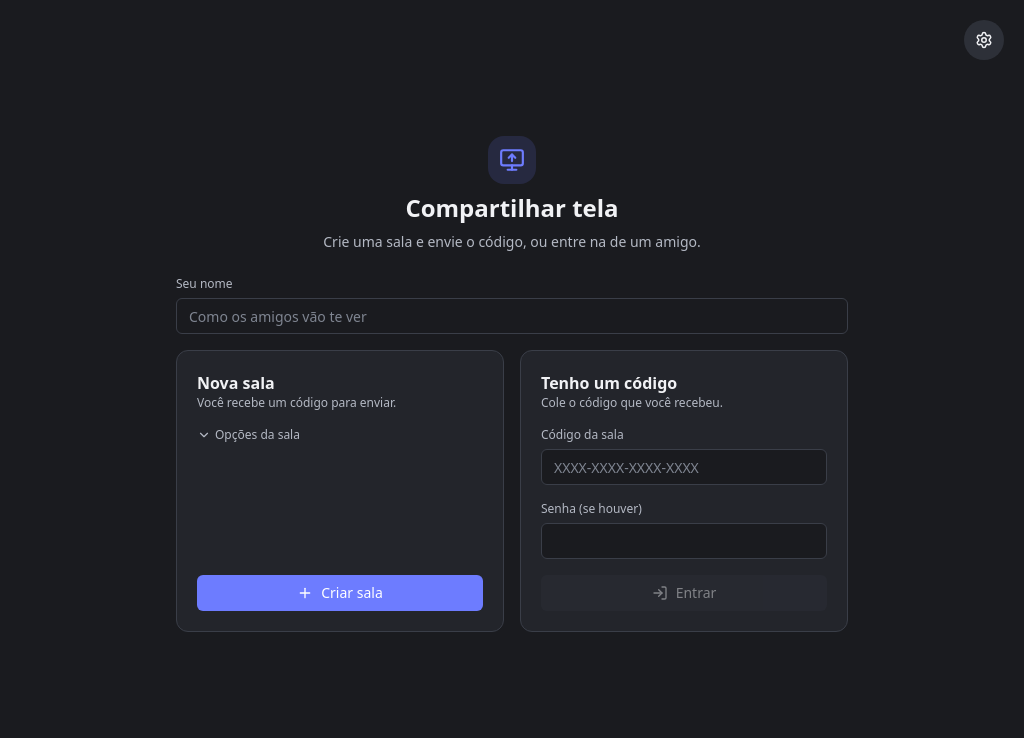
Test: servidor de mídia › salva o endereço digitado e mostra o erro do main
The width and height of the screenshot is (1024, 738).
Click the button named "Configurações".
click(984, 40)  # box [964,20,1004,60]
(page scrolled)
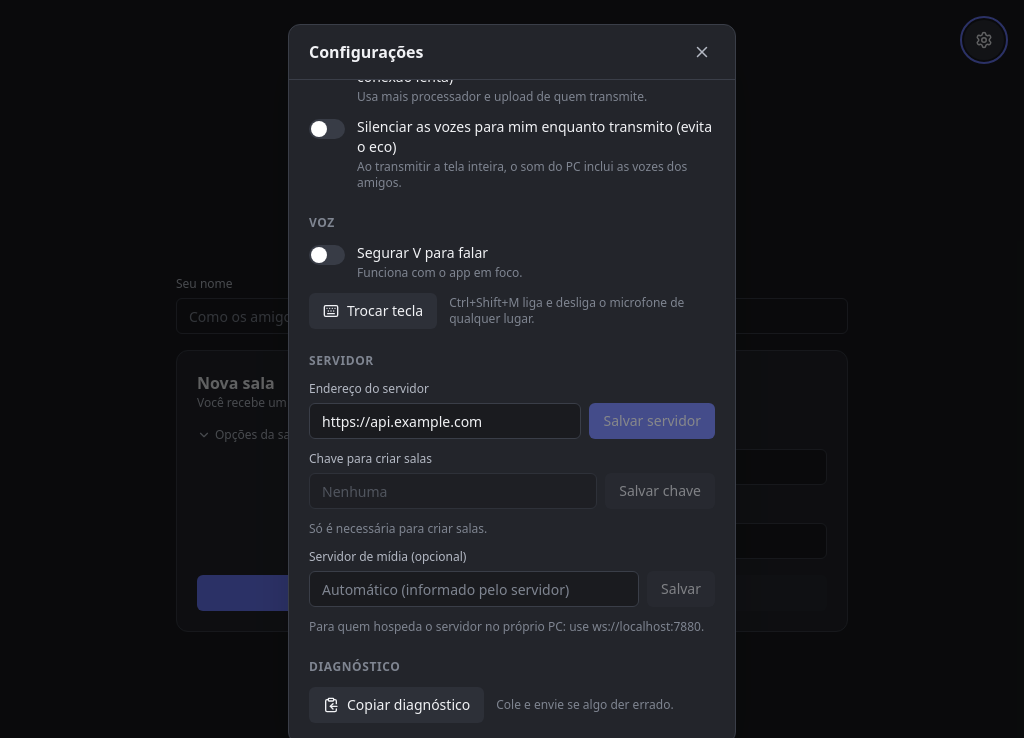
expect the field labelled "Servidor de mídia (opcional)" is empty: met
Type "ws://localhost:7880" into the field labelled "Servidor de mídia (opcional)".
click(474, 589); type("ws://localhost:7880")  # box [309,571,639,607]
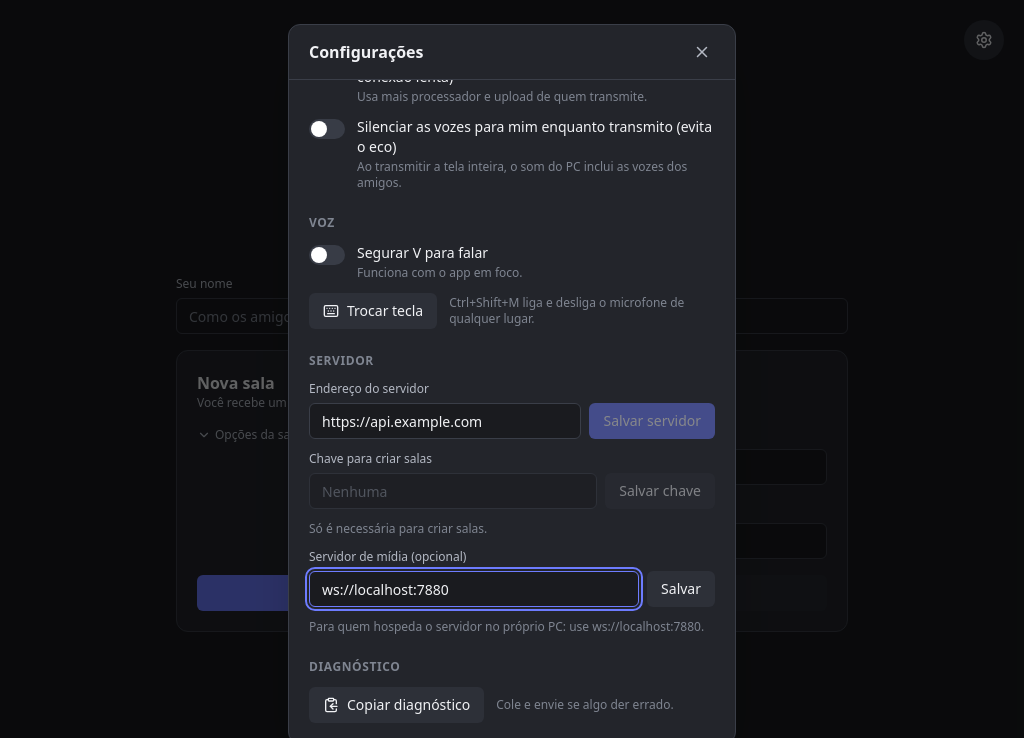
Click the button "Salvar".
click(681, 589)  # box [647,571,715,607]
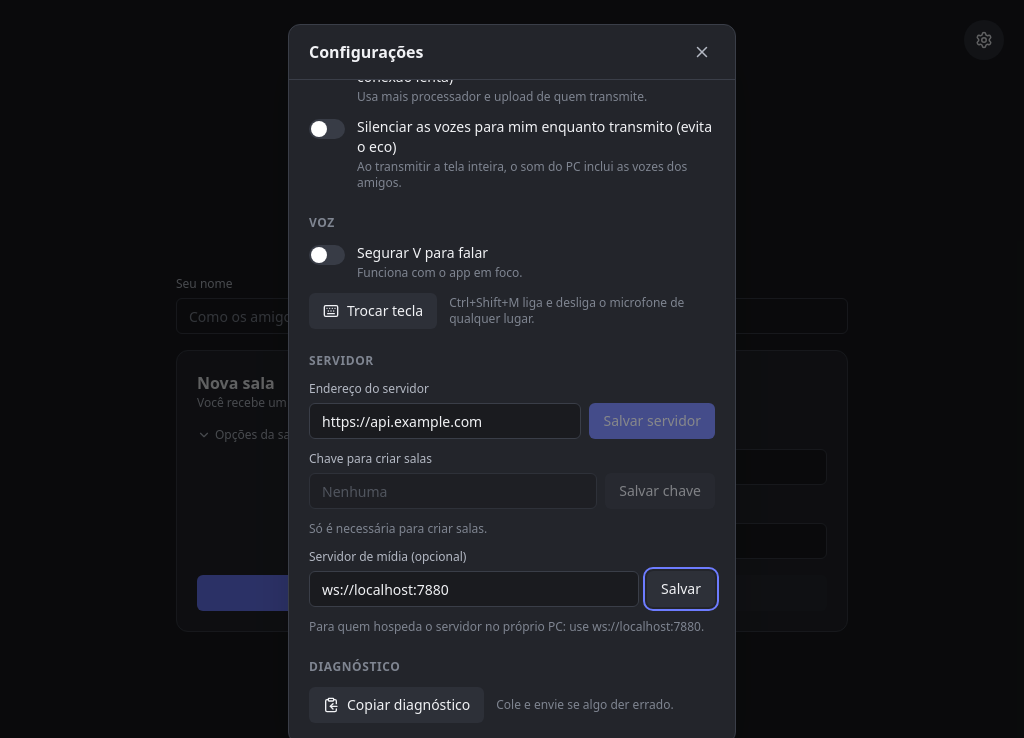
Click the button "Salvar".
click(681, 589)  # box [647,571,715,607]
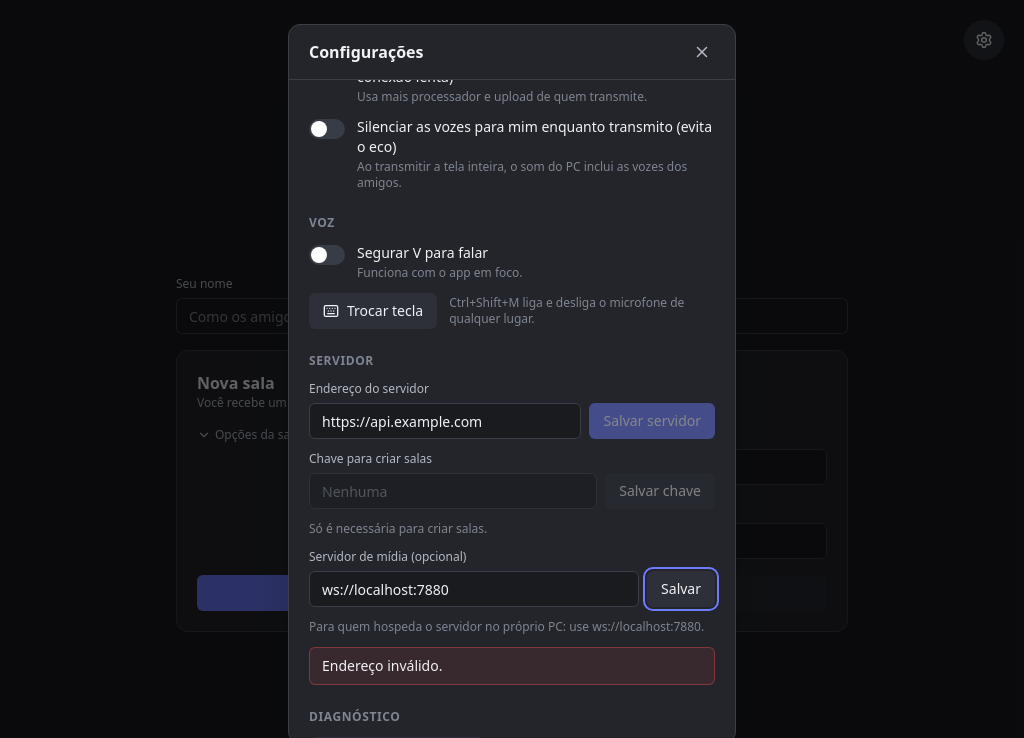
expect the message reads "Endereço inválido.": met, box [322,656,442,675]
